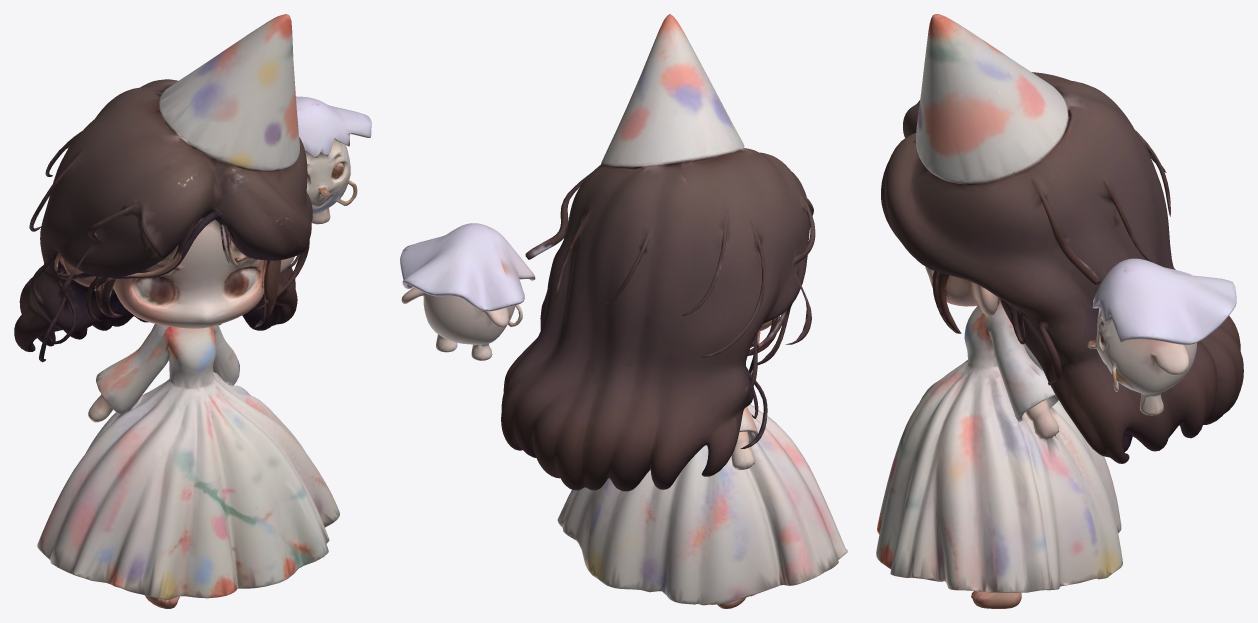
The model's file is character-rebuilt.glb.
The picture shows the model from 3 angles, left to right: view 1: azimuth 30°, elevation 25°; view 2: azimuth 150°, elevation 25°; view 3: azimuth 270°, elevation 25°; orthographic projection. The views are drawn at different scales.
Visible parts, largest first — view 1: node_0; view 2: node_0; view 3: node_0.
Boxes of the visible parts, x1,y1,x2,y2 form: node_0: (14, 14, 371, 608); node_0: (400, 14, 847, 608); node_0: (876, 14, 1243, 608).
Bounding box in the file's own units: 0.7711 × 1.11 × 0.6075.
Materials: 1 (1 with a texture image).
